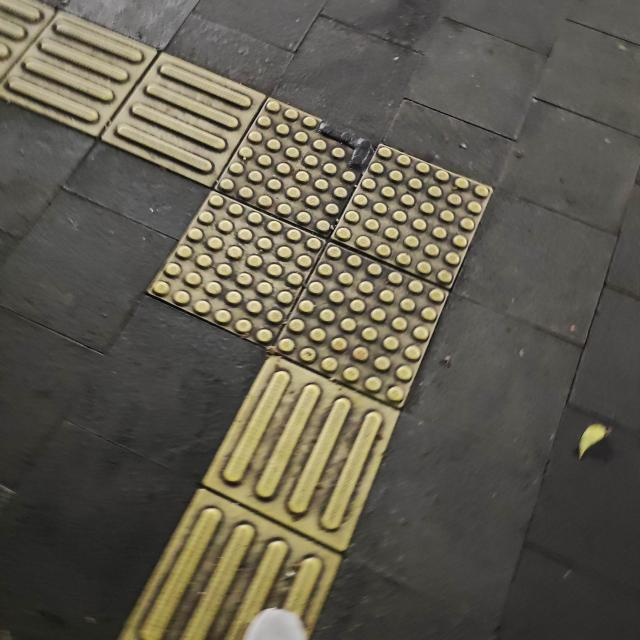kiri: (81, 17, 536, 471)
